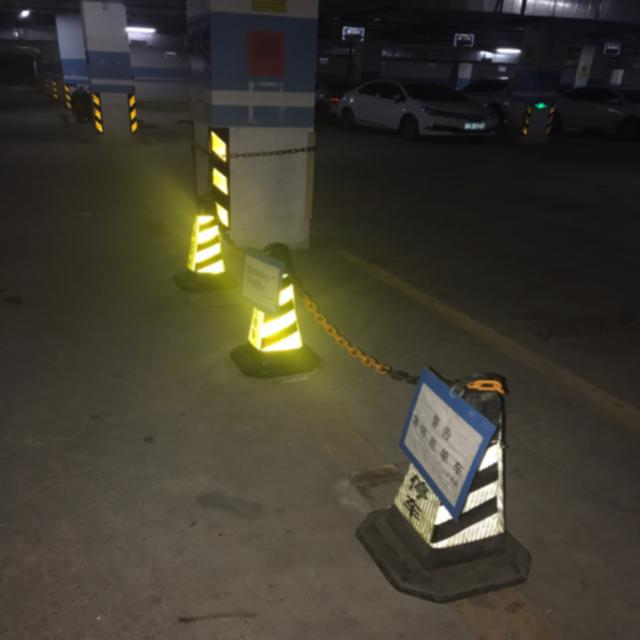car: (335, 78, 501, 142), (550, 83, 640, 136)
reflective_cone: (358, 372, 534, 604), (232, 242, 324, 380), (176, 193, 237, 294)
